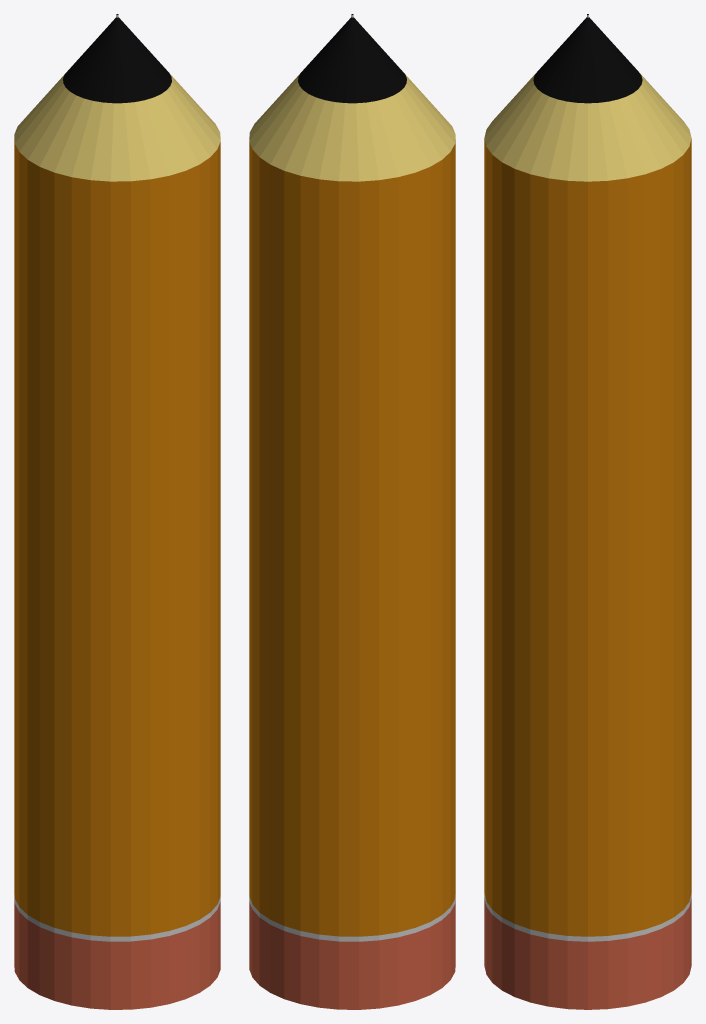
Rendered from Bleistift.dae.
3 renders of one model, left to right at view 1: azimuth 30°, elevation 25°; view 2: azimuth 150°, elevation 25°; view 3: azimuth 270°, elevation 25°, orthographic.
Visible parts, largest first — view 1: Cylinder; view 2: Cylinder; view 3: Cylinder.
Boxes of the visible parts, x1,y1,x2,y2 form: Cylinder: (14, 14, 220, 1009); Cylinder: (249, 14, 455, 1009); Cylinder: (484, 14, 691, 1009).
Bounding box in the file's own units: 0.2834 × 0.2834 × 1.44.
